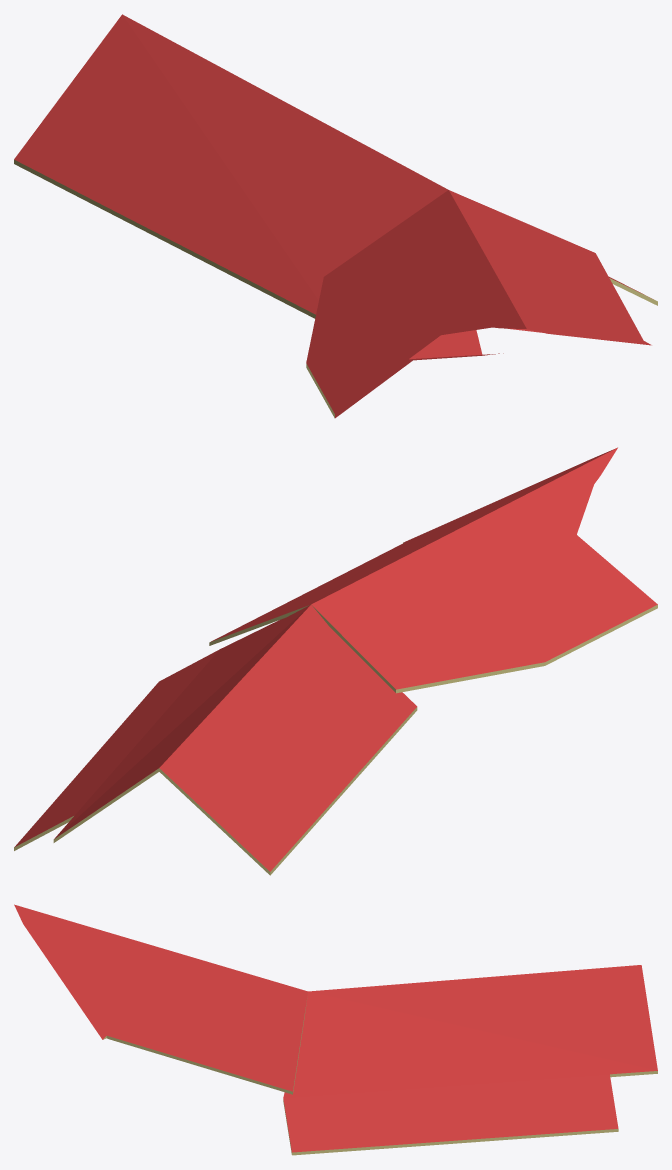
3 views of the same model, one above another, from view 1: azimuth 30°, elevation 25°; view 2: azimuth 150°, elevation 25°; view 3: azimuth 270°, elevation 25° (orthographic). The views are drawn at different scales.
Size of the model in its own units: 10.74 by 19.78 by 4.79.
